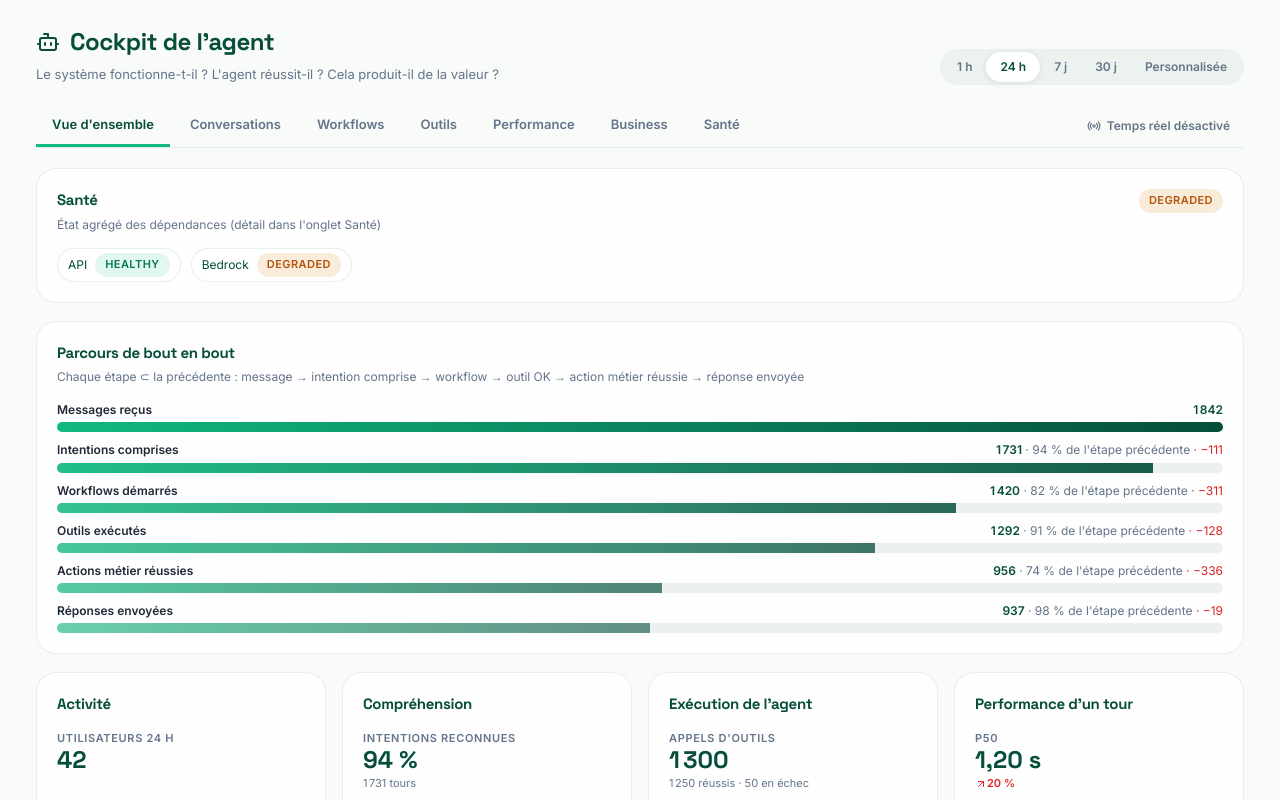
Scenario: Conversations › état vide quand aucun résultat
The width and height of the screenshot is (1280, 800).
Check: the list with test id "funnel" is shown, box x1=57 y1=400 x2=1223 y2=633
Click the tab "Conversations".
click(235, 126)  # box x1=174 y1=105 x2=297 y2=147
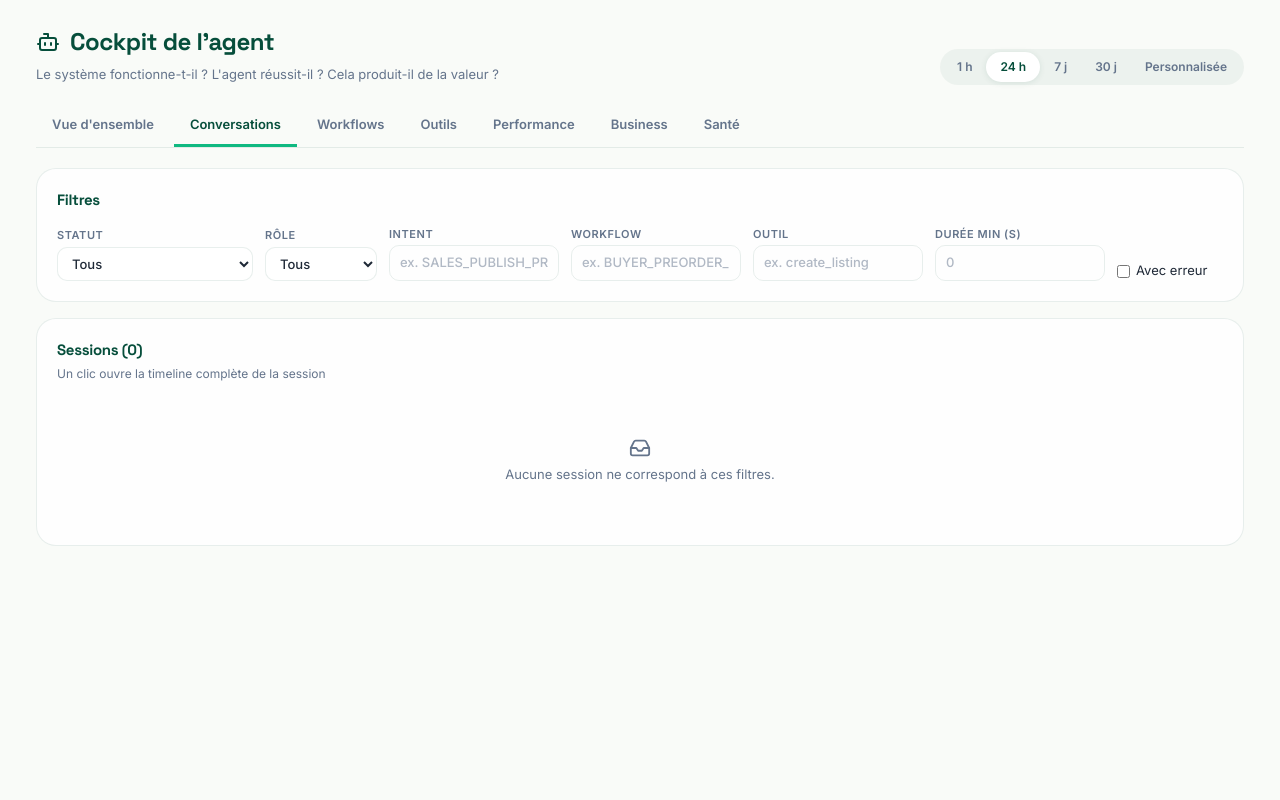
Check: the text "Aucune session ne correspond à ces filtres." is shown, box x1=505 y1=438 x2=775 y2=482
